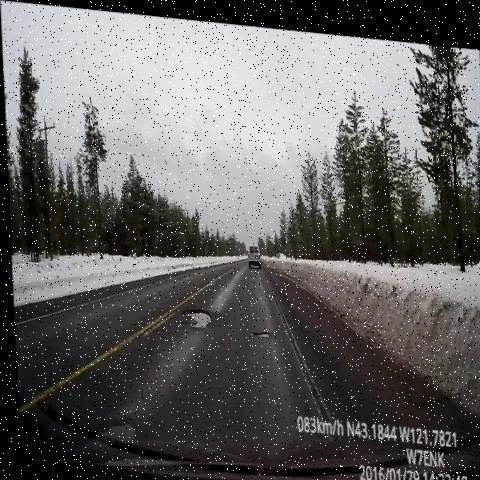pothole: (86, 403, 144, 457), (176, 293, 215, 336), (243, 322, 272, 346)
